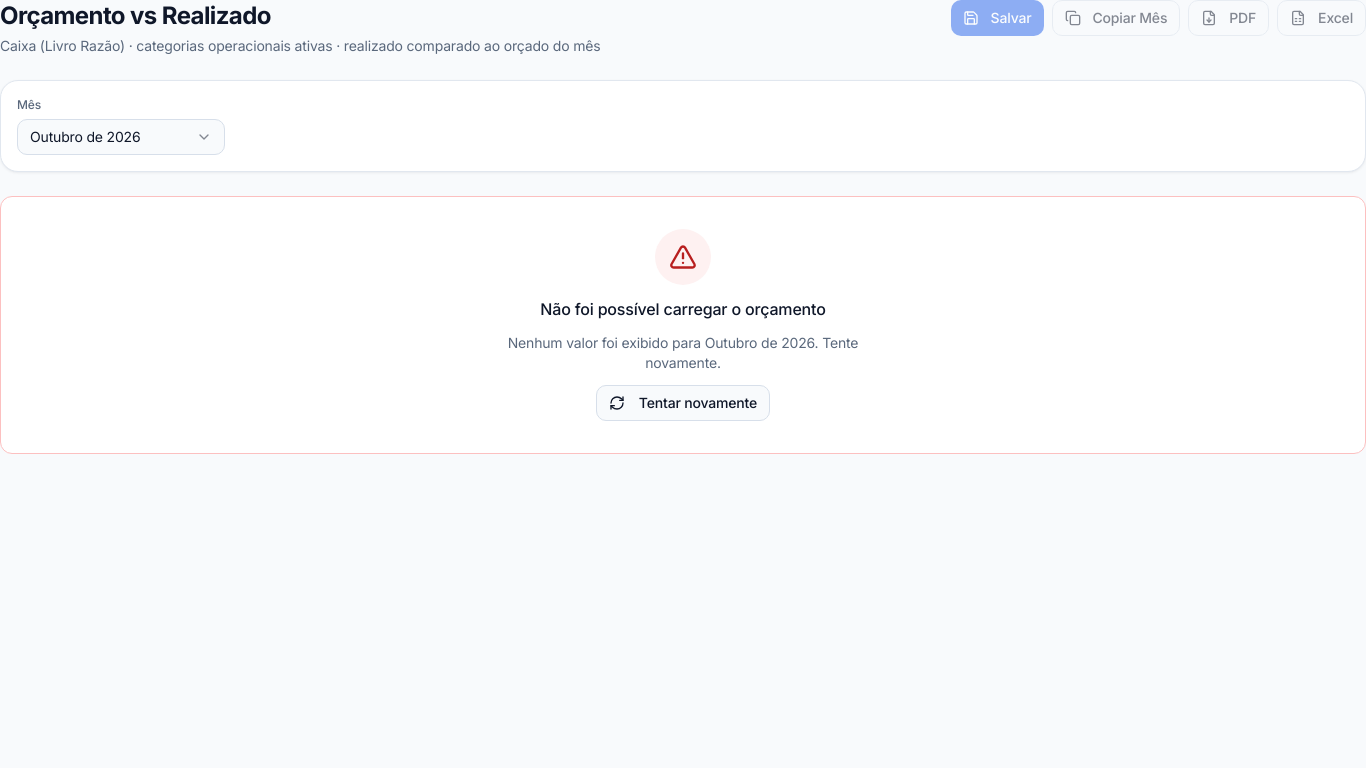
it: Orçamento × Realizado › falha de leitura vira erro com nova tentativa; exportar e copiar ficam bloqueados
Expected: the text "Não foi possível carregar o orçamento" is shown, [540, 299, 826, 319]
Expected: the button "Copiar Mês" is disabled, [1052, 0, 1180, 36]
Click the button "Tentar novamente": [683, 403] box [596, 385, 770, 421]
(page scrolled)
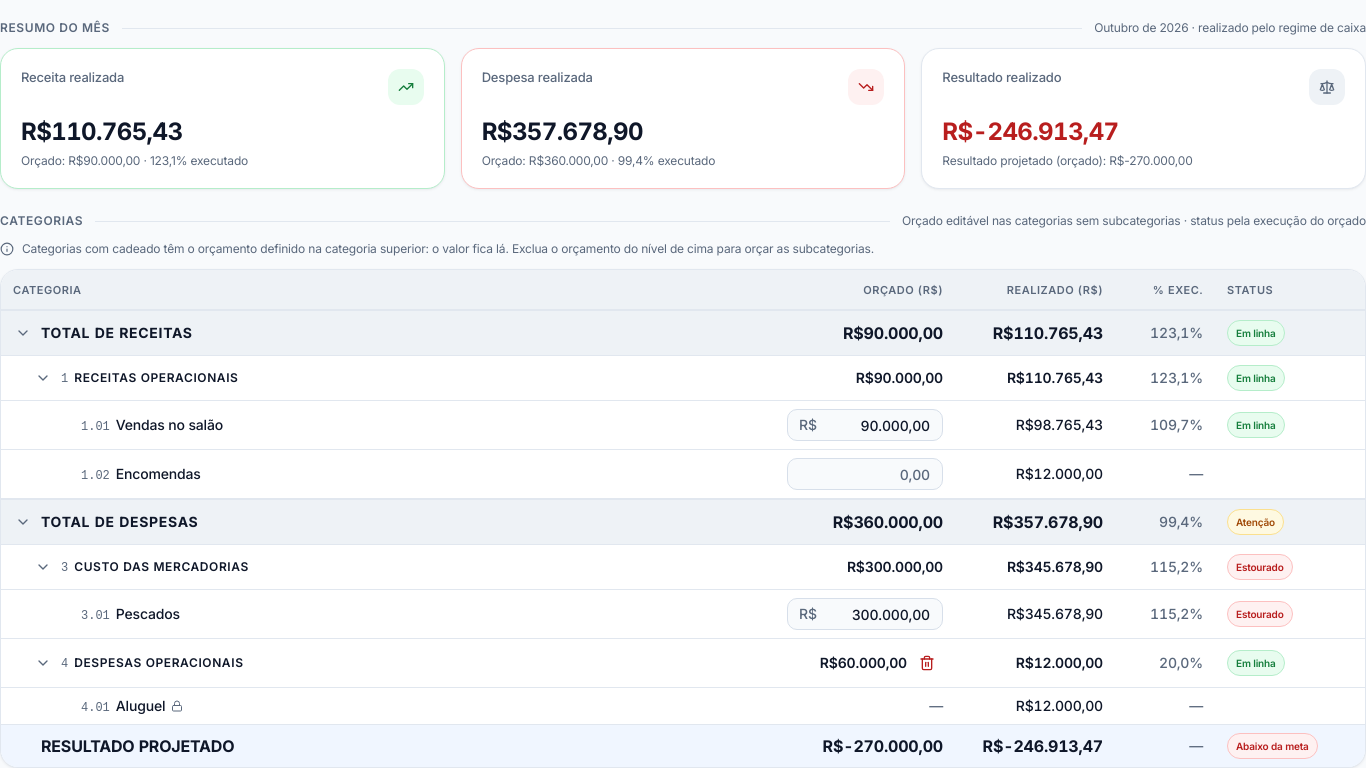
Expected: the text "Pescados" is shown, [116, 605, 180, 622]
